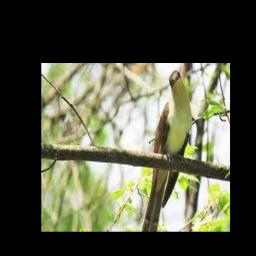Cuckoo: (141, 70, 192, 232)
